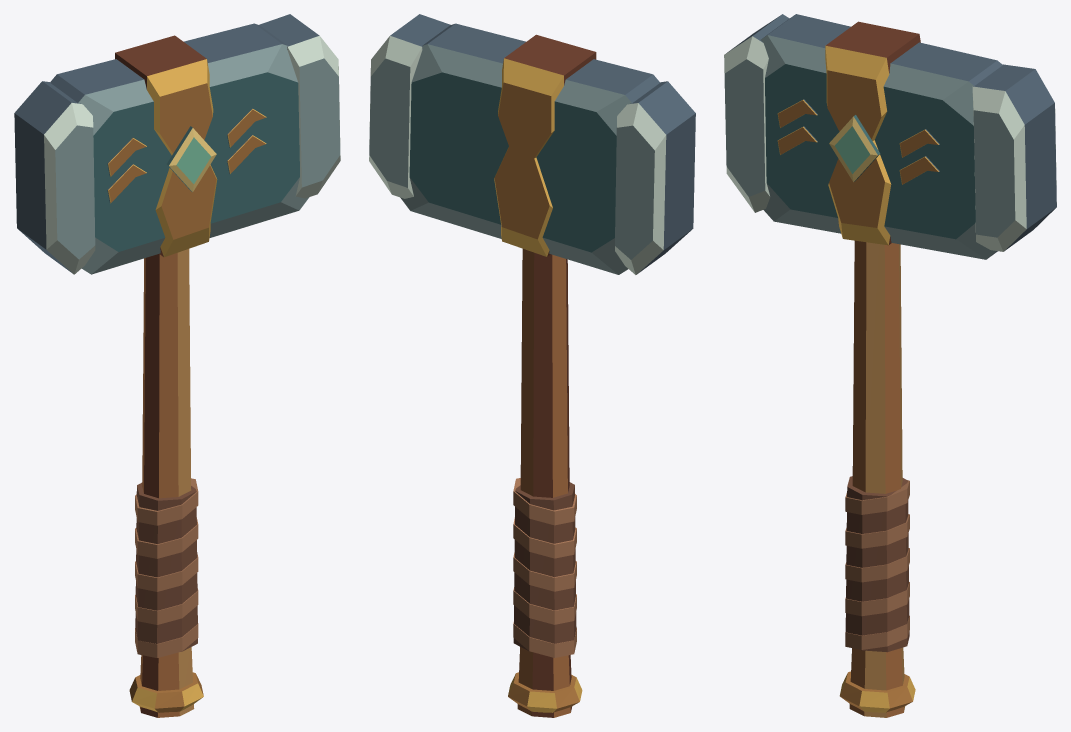
The model's file is hammer.obj.
3 views of the same model, side by side, from view 1: azimuth 30°, elevation 25°; view 2: azimuth 150°, elevation 25°; view 3: azimuth 330°, elevation 25° (orthographic). The views are drawn at different scales.
Visible parts, largest first — view 1: Forge_head, Ash_wood_haft, Left_striking_face, Brass_harness, Right_striking_face, Leather_grip, Forest_seal, Butt_cap, Wrap_0, Wrap_1, Wrap_2, Wrap_3 (+5 smaller); view 2: Forge_head, Ash_wood_haft, Left_striking_face, Brass_harness, Right_striking_face, Leather_grip, Butt_cap, Wrap_0, Wrap_1, Wrap_2, Wrap_3, Wrap_4; view 3: Forge_head, Ash_wood_haft, Right_striking_face, Brass_harness, Left_striking_face, Leather_grip, Forest_seal, Butt_cap, Wrap_0, Wrap_1, Wrap_2, Wrap_3 (+5 smaller).
Part boxes in pixels (x1,y1,x2,y2): Forge_head: (50, 23, 309, 274); Ash_wood_haft: (139, 249, 194, 717); Left_striking_face: (14, 81, 95, 274); Brass_harness: (115, 35, 217, 257); Right_striking_face: (259, 14, 340, 198); Leather_grip: (135, 482, 197, 651); Forest_seal: (166, 126, 216, 192); Butt_cap: (129, 672, 203, 712); Wrap_0: (135, 478, 198, 525); Wrap_1: (135, 517, 198, 558); Wrap_2: (135, 554, 198, 591); Wrap_3: (135, 588, 198, 624); Forge_head: (400, 23, 660, 274); Ash_wood_haft: (517, 249, 572, 717); Left_striking_face: (615, 81, 695, 274); Brass_harness: (494, 34, 596, 256); Right_striking_face: (369, 14, 450, 198); Leather_grip: (513, 482, 576, 651); Butt_cap: (508, 672, 582, 712); Wrap_0: (513, 478, 576, 525); Wrap_1: (513, 517, 576, 558); Wrap_2: (513, 552, 576, 591); Wrap_3: (513, 587, 576, 624); Wrap_4: (513, 622, 576, 657); Forge_head: (760, 14, 1002, 259); Ash_wood_haft: (849, 240, 905, 717); Right_striking_face: (972, 64, 1056, 251); Brass_harness: (825, 21, 920, 245); Left_striking_face: (724, 14, 789, 212); Leather_grip: (845, 476, 909, 652); Forest_seal: (829, 115, 880, 182); Butt_cap: (839, 671, 915, 712); Wrap_0: (845, 480, 909, 514); Wrap_1: (845, 514, 909, 548); Wrap_2: (845, 548, 909, 582); Wrap_3: (845, 582, 909, 616).
Bounding box in the file's own units: 1.47 × 3.08 × 0.4094.
